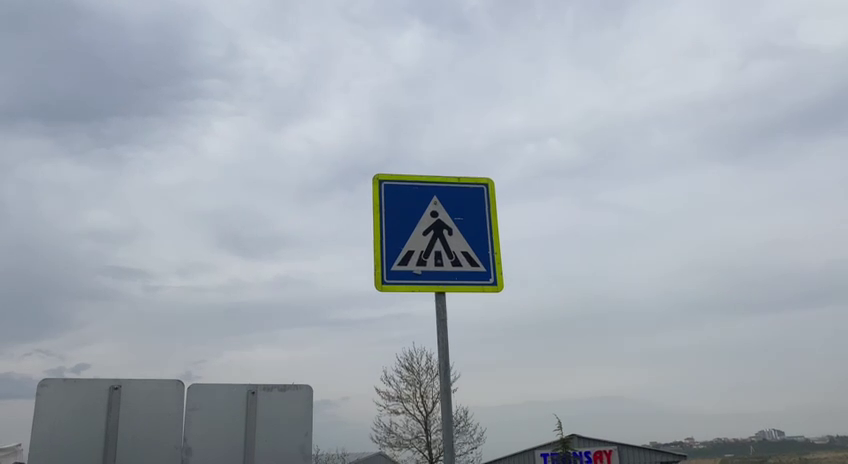pedestrianCrossing: (369, 171, 504, 294)
